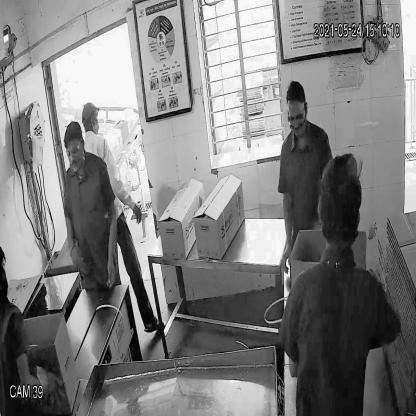goggles: (284, 108, 310, 127), (63, 141, 86, 158)
